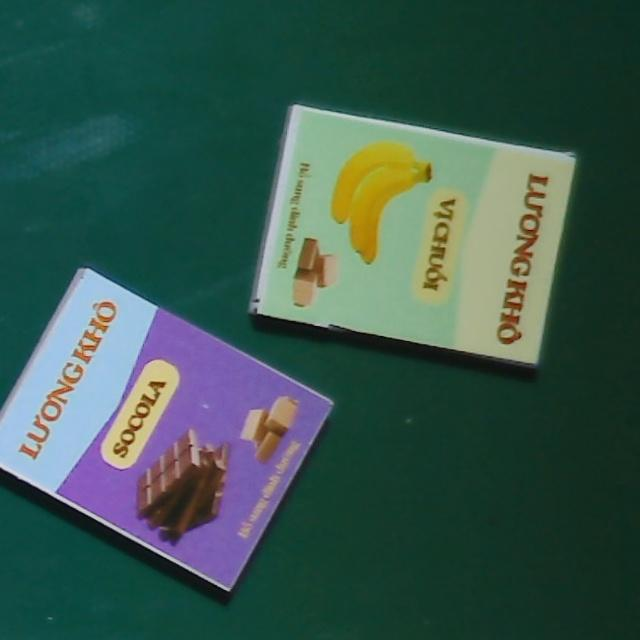chuoi: (247, 99, 577, 367)
socola: (0, 264, 335, 594)
